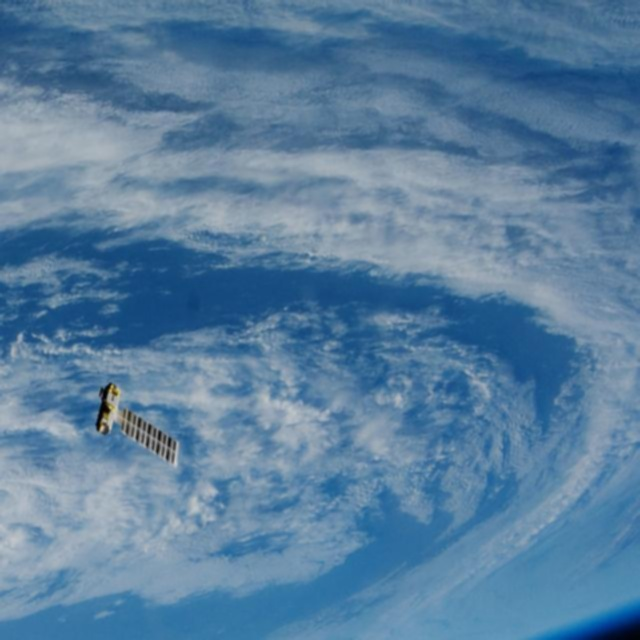medium_debris: (90, 377, 193, 481)
